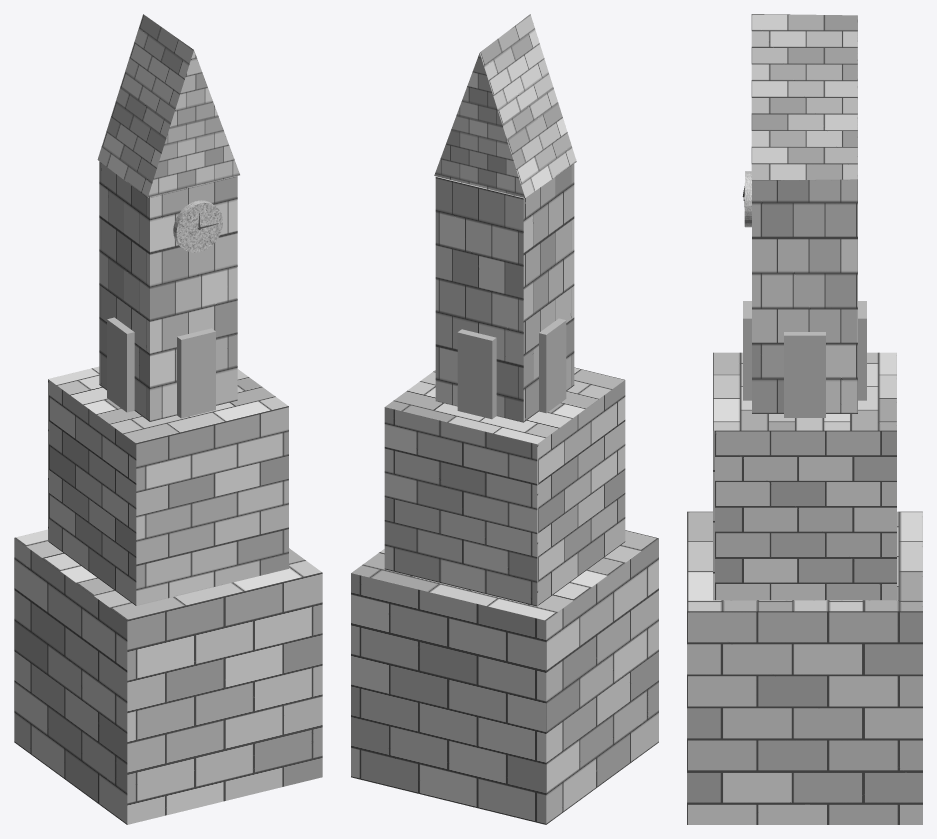
The model's file is House1.fbx.
The picture shows the model from 3 angles, left to right: view 1: azimuth 30°, elevation 25°; view 2: azimuth 150°, elevation 25°; view 3: azimuth 270°, elevation 25°; orthographic projection. The views are drawn at different scales.
Visible parts, largest first — view 1: FirstBlock, SecondBlock, ThirdBlock, Ceiling, Window.002, Window.001, Clock; view 2: FirstBlock, SecondBlock, ThirdBlock, Ceiling, Window.003, Window.001; view 3: FirstBlock, SecondBlock, ThirdBlock, Ceiling, Window, Window.002, Window.003, Clock.
Part boxes in pixels (x1=…): FirstBlock: x1=14, y1=529, x2=322, y2=824; SecondBlock: x1=48, y1=366, x2=288, y2=605; ThirdBlock: x1=99, y1=161, x2=237, y2=421; Ceiling: x1=97, y1=14, x2=239, y2=197; Window.002: x1=177, y1=328, x2=215, y2=418; Window.001: x1=107, y1=317, x2=134, y2=412; Clock: x1=173, y1=200, x2=222, y2=252; FirstBlock: x1=351, y1=530, x2=658, y2=824; SecondBlock: x1=384, y1=367, x2=625, y2=606; ThirdBlock: x1=435, y1=164, x2=574, y2=422; Ceiling: x1=434, y1=14, x2=576, y2=197; Window.003: x1=457, y1=329, x2=496, y2=419; Window.001: x1=539, y1=318, x2=566, y2=413; FirstBlock: x1=687, y1=511, x2=922, y2=824; SecondBlock: x1=713, y1=352, x2=896, y2=600; ThirdBlock: x1=752, y1=179, x2=857, y2=413; Ceiling: x1=751, y1=14, x2=857, y2=180; Window: x1=784, y1=332, x2=825, y2=417; Window.002: x1=743, y1=301, x2=751, y2=400; Window.003: x1=858, y1=301, x2=866, y2=400; Clock: x1=744, y1=171, x2=751, y2=227.
Size of the model in its own units: 300 by 1068 by 300.
